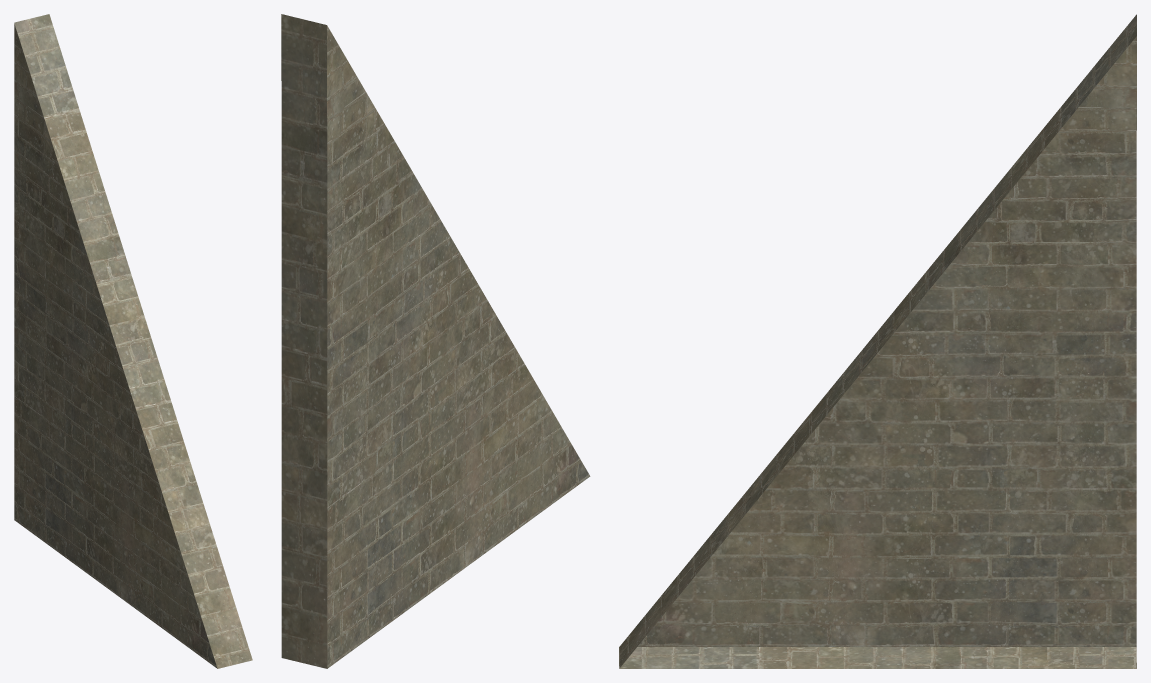
The model's file is SM_WallRoof02_LOD0.glb.
3 renders of one model, left to right at view 1: azimuth 30°, elevation 25°; view 2: azimuth 150°, elevation 25°; view 3: azimuth 270°, elevation 25°, orthographic. The views are drawn at different scales.
Visible parts, largest first — view 1: SM_WallRoof02_LOD0; view 2: SM_WallRoof02_LOD0; view 3: SM_WallRoof02_LOD0.
Part boxes in pixels (x1,y1,x2,y2): SM_WallRoof02_LOD0: [14, 14, 252, 668]; SM_WallRoof02_LOD0: [281, 14, 590, 668]; SM_WallRoof02_LOD0: [619, 14, 1136, 668].
Size of the model in its own units: 0.2 by 2.7 by 2.
Materials: 1 (1 with a texture image).
